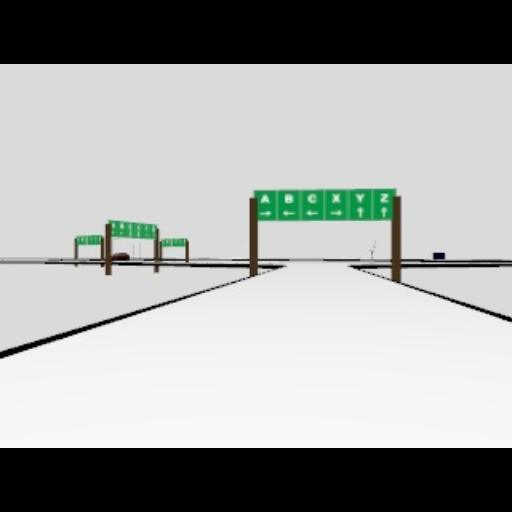A: (259, 194, 271, 204)
B: (283, 192, 295, 204)
C: (306, 192, 318, 204)
Left: (281, 210, 297, 216), (306, 210, 320, 216)
Right: (258, 210, 272, 218), (329, 209, 343, 217)
Straight: (356, 206, 366, 218), (380, 206, 388, 218)
X: (331, 192, 341, 204)
Y: (355, 192, 365, 202)
Z: (380, 192, 390, 204)
